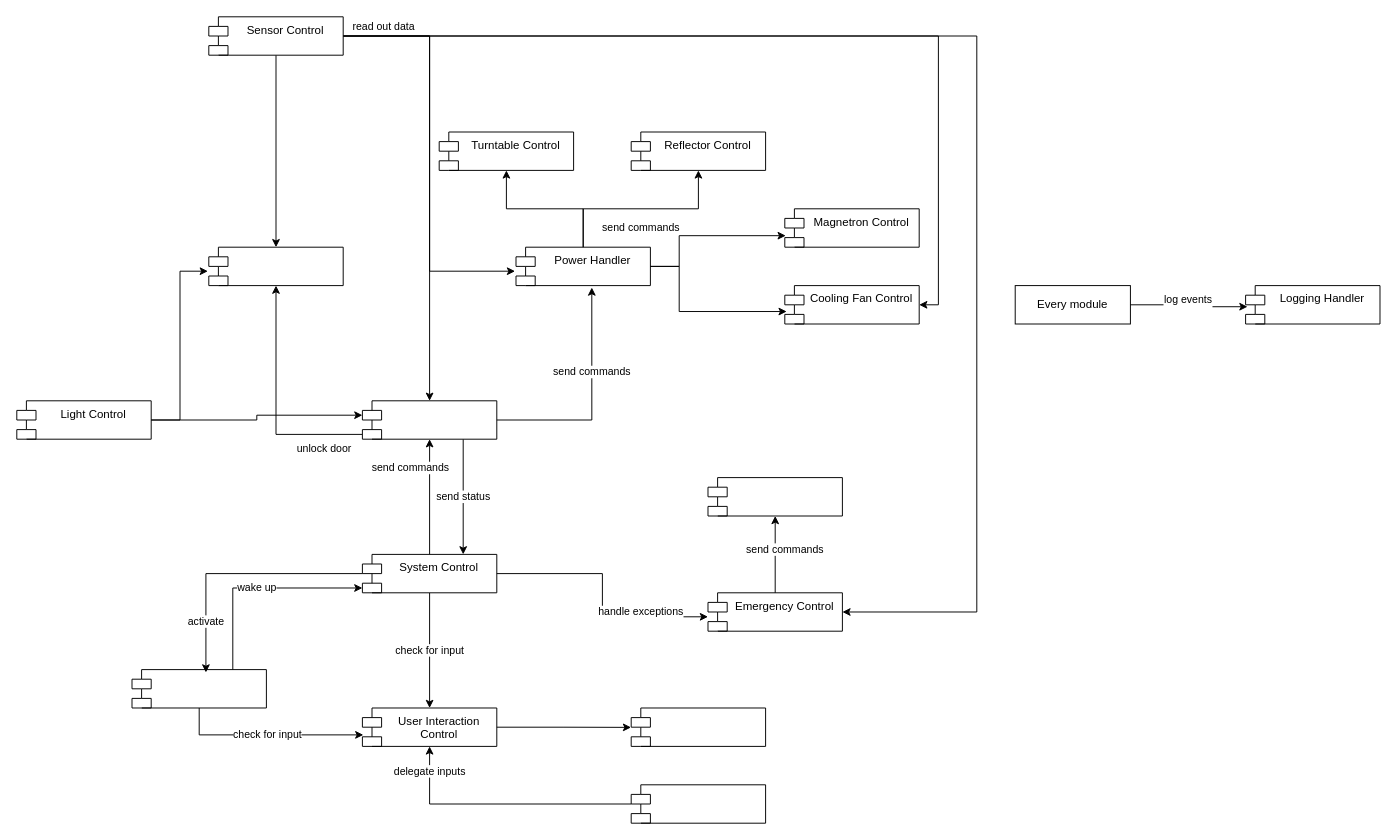
This 1397x840 diagram has some shape labels left out. The box of each missing label's shape, as (x1, y1, x2, y2) in pixels:
Alarm Control: (707, 477, 842, 516)
Display Handler: (630, 707, 766, 746)
Door Control: (208, 246, 343, 286)
Idle Watchdog: (131, 669, 266, 708)
Input Detector: (630, 784, 766, 823)
Program Control: (361, 400, 497, 439)
